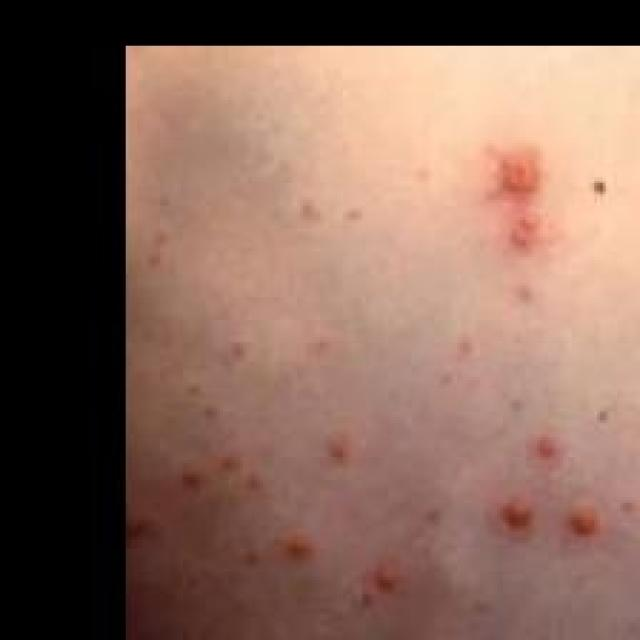others: (200, 110, 640, 640)
